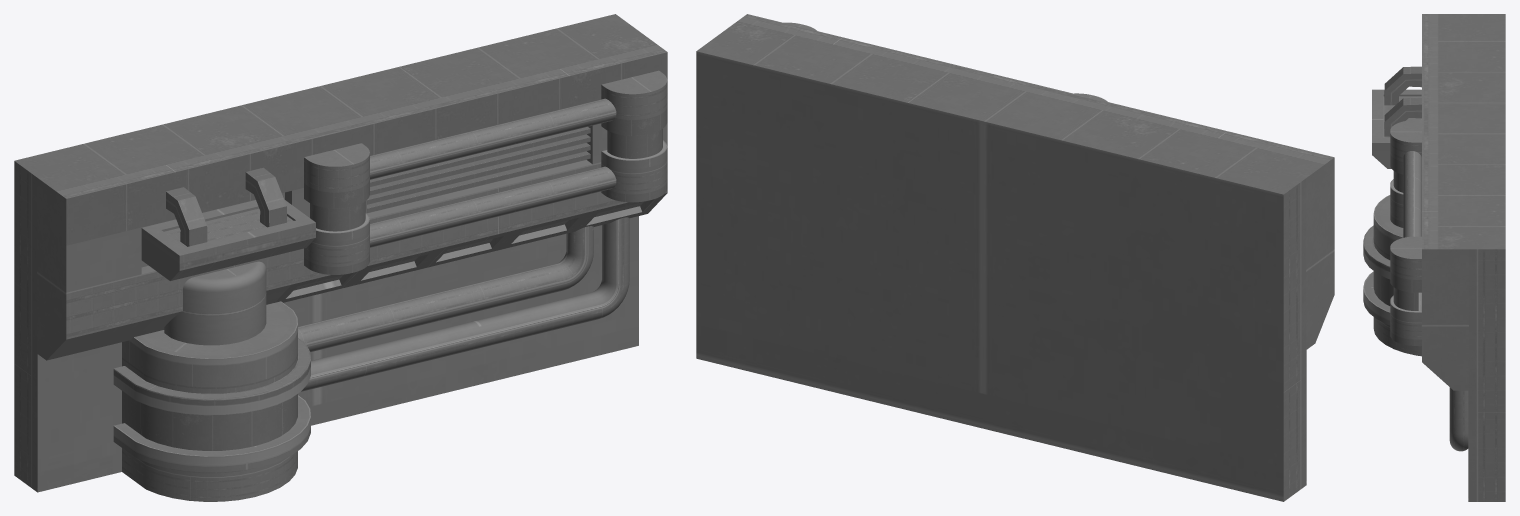
Rendered from SM_module_01.glb.
3 views of the same model, side by side, from view 1: azimuth 30°, elevation 25°; view 2: azimuth 150°, elevation 25°; view 3: azimuth 270°, elevation 25° (orthographic). The views are drawn at different scales.
Visible parts, largest first — view 1: SM_module_01; view 2: SM_module_01; view 3: SM_module_01.
Part boxes in pixels (left/top/right/bottom): SM_module_01: left=14, top=14, right=667, bottom=501; SM_module_01: left=696, top=14, right=1334, bottom=501; SM_module_01: left=1363, top=14, right=1505, bottom=501.
Bounding box in the file's own units: 8 × 4 × 2.05.
1 material, 1 textured.
